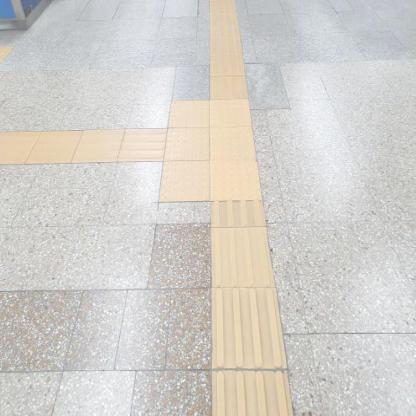podotacti: (137, 70, 315, 270), (210, 201, 292, 415), (0, 128, 168, 166), (209, 0, 248, 99)
